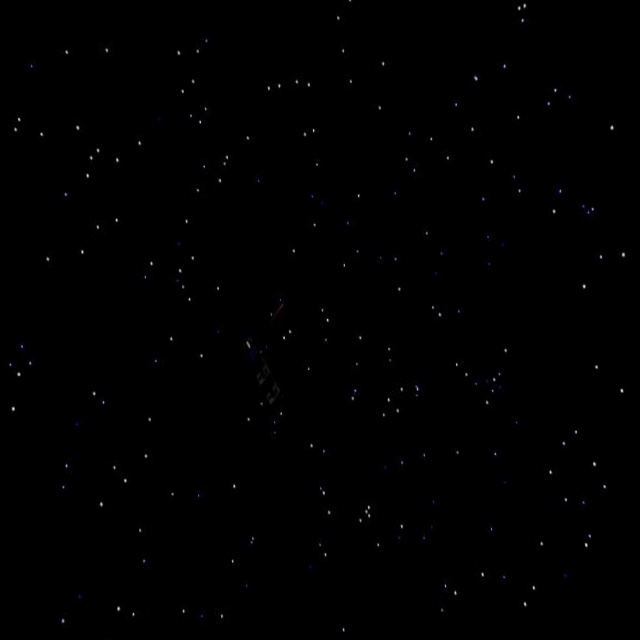medium_debris: (225, 286, 307, 422)
